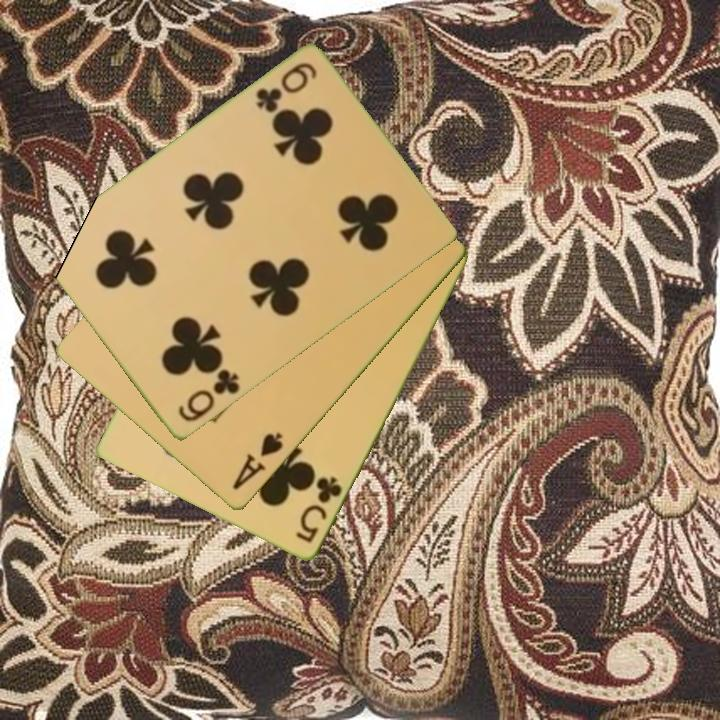5c: (292, 473, 346, 547)
6c: (174, 366, 243, 426), (252, 59, 320, 116)
As: (228, 429, 286, 493)
